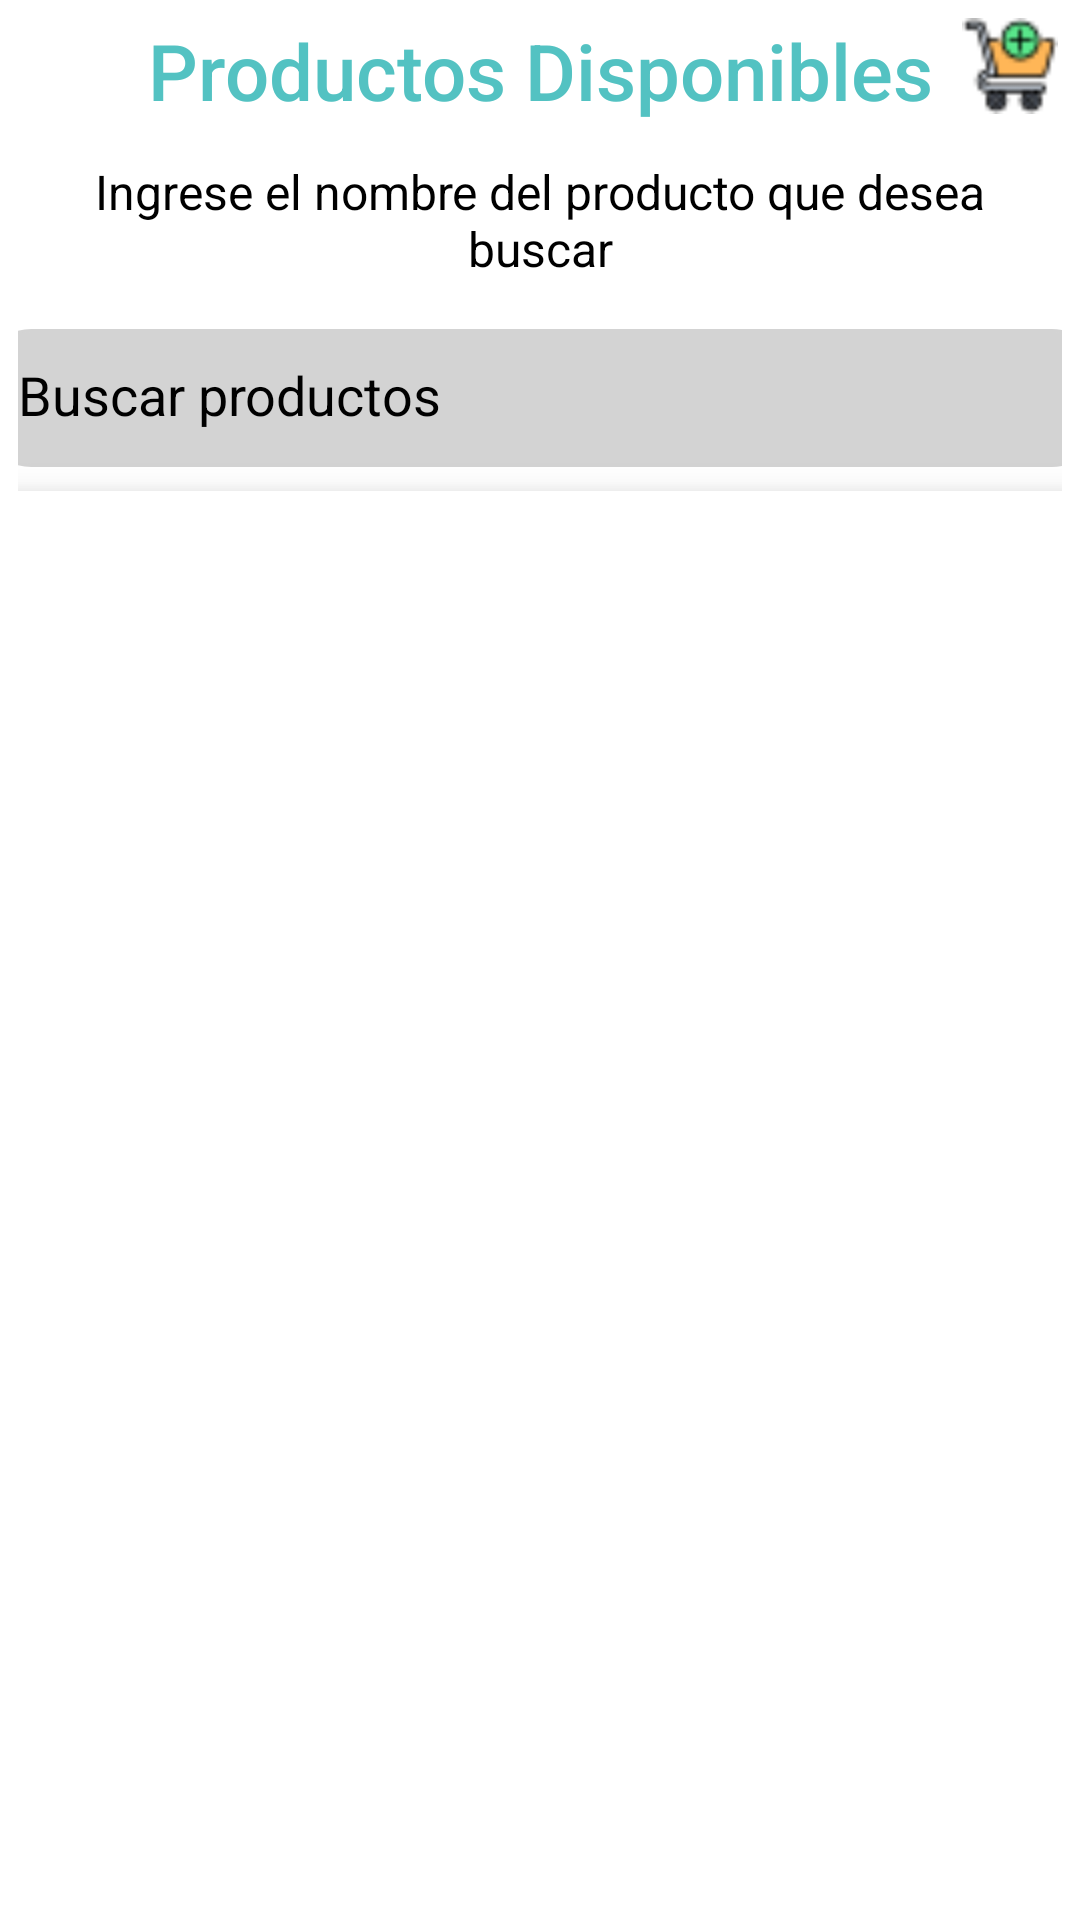

Icon bounding boxes for this 1080w x 1920h phone screenshot, format {"left": x1, "top": y1, "right": x2, "bottom": y2}:
Ícono del carrito: {"left": 962, "top": 18, "right": 1058, "bottom": 114}
